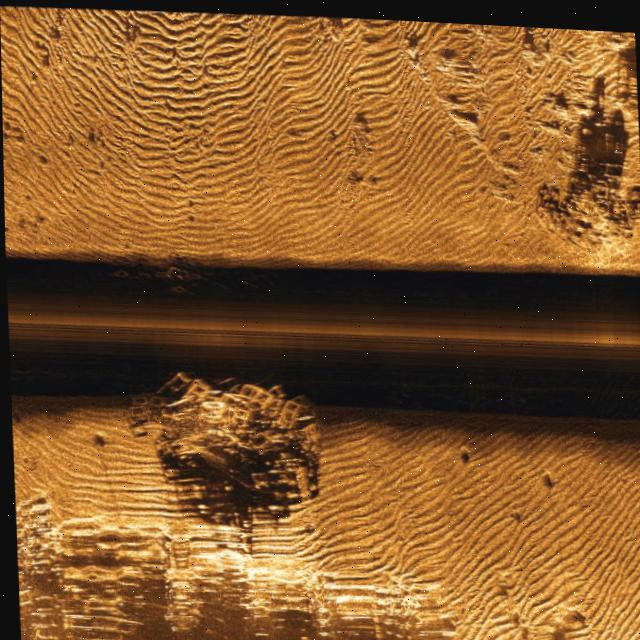artificial reef: (113, 362, 322, 493), (102, 255, 224, 298)
